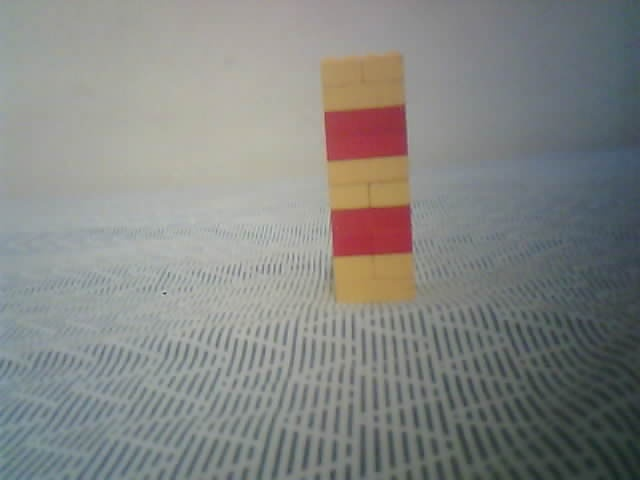lego: (318, 51, 418, 306)
